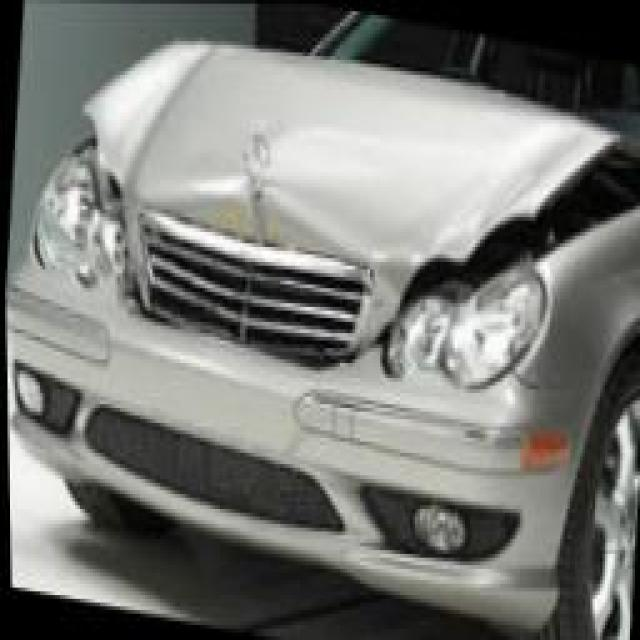Bonnet: (78, 45, 640, 369)
